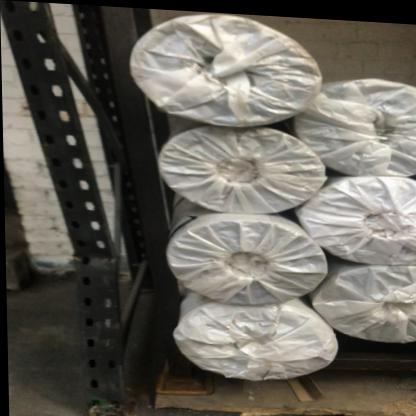vertical_damage: (46, 187, 133, 337)
